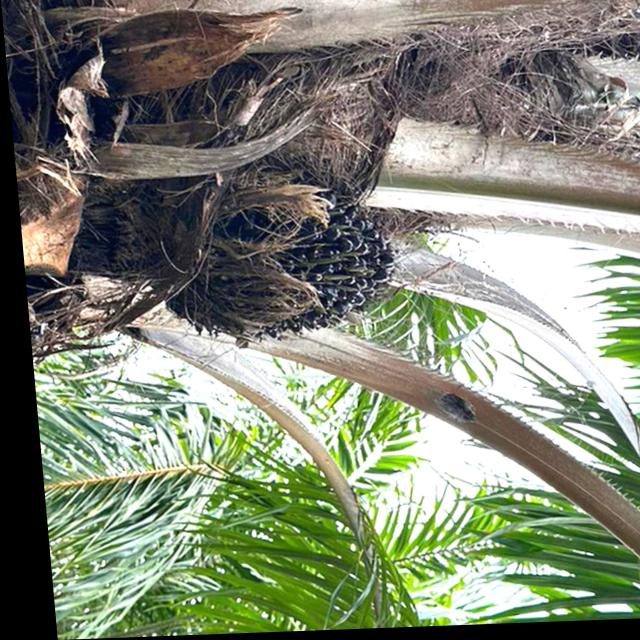unripe: (142, 171, 402, 356)
